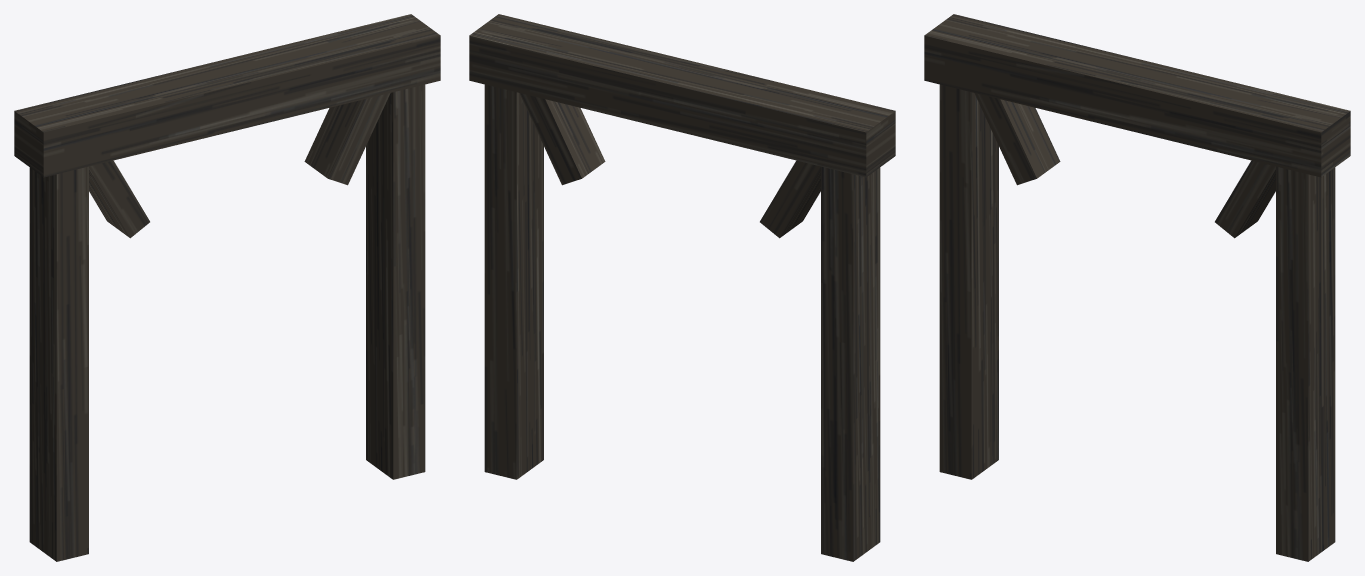
File: timber-arch.glb
The picture shows the model from 3 angles, left to right: view 1: azimuth 30°, elevation 25°; view 2: azimuth 150°, elevation 25°; view 3: azimuth 330°, elevation 25°; orthographic projection.
Visible parts, largest first — view 1: Cross beam, Support post, Support post.001, Brace.001, Brace; view 2: Cross beam, Support post, Support post.001, Brace.001, Brace; view 3: Cross beam, Support post.001, Support post, Brace, Brace.001.
Boxes of the visible parts, x1=… form: Cross beam: x1=14, y1=14, x2=440, y2=177; Support post: x1=29, y1=166, x2=88, y2=561; Support post.001: x1=366, y1=84, x2=425, y2=479; Brace.001: x1=304, y1=93, x2=390, y2=185; Brace: x1=89, y1=160, x2=149, y2=238; Cross beam: x1=469, y1=14, x2=895, y2=177; Support post: x1=821, y1=166, x2=880, y2=561; Support post.001: x1=484, y1=84, x2=543, y2=479; Brace.001: x1=519, y1=93, x2=605, y2=185; Brace: x1=760, y1=160, x2=820, y2=238; Cross beam: x1=924, y1=14, x2=1350, y2=177; Support post.001: x1=1276, y1=166, x2=1335, y2=561; Support post: x1=939, y1=84, x2=998, y2=479; Brace: x1=974, y1=93, x2=1060, y2=185; Brace.001: x1=1215, y1=160, x2=1275, y2=238.
Size of the model in its own units: 2.95 by 3.08 by 0.38.
1 material, 1 textured.
